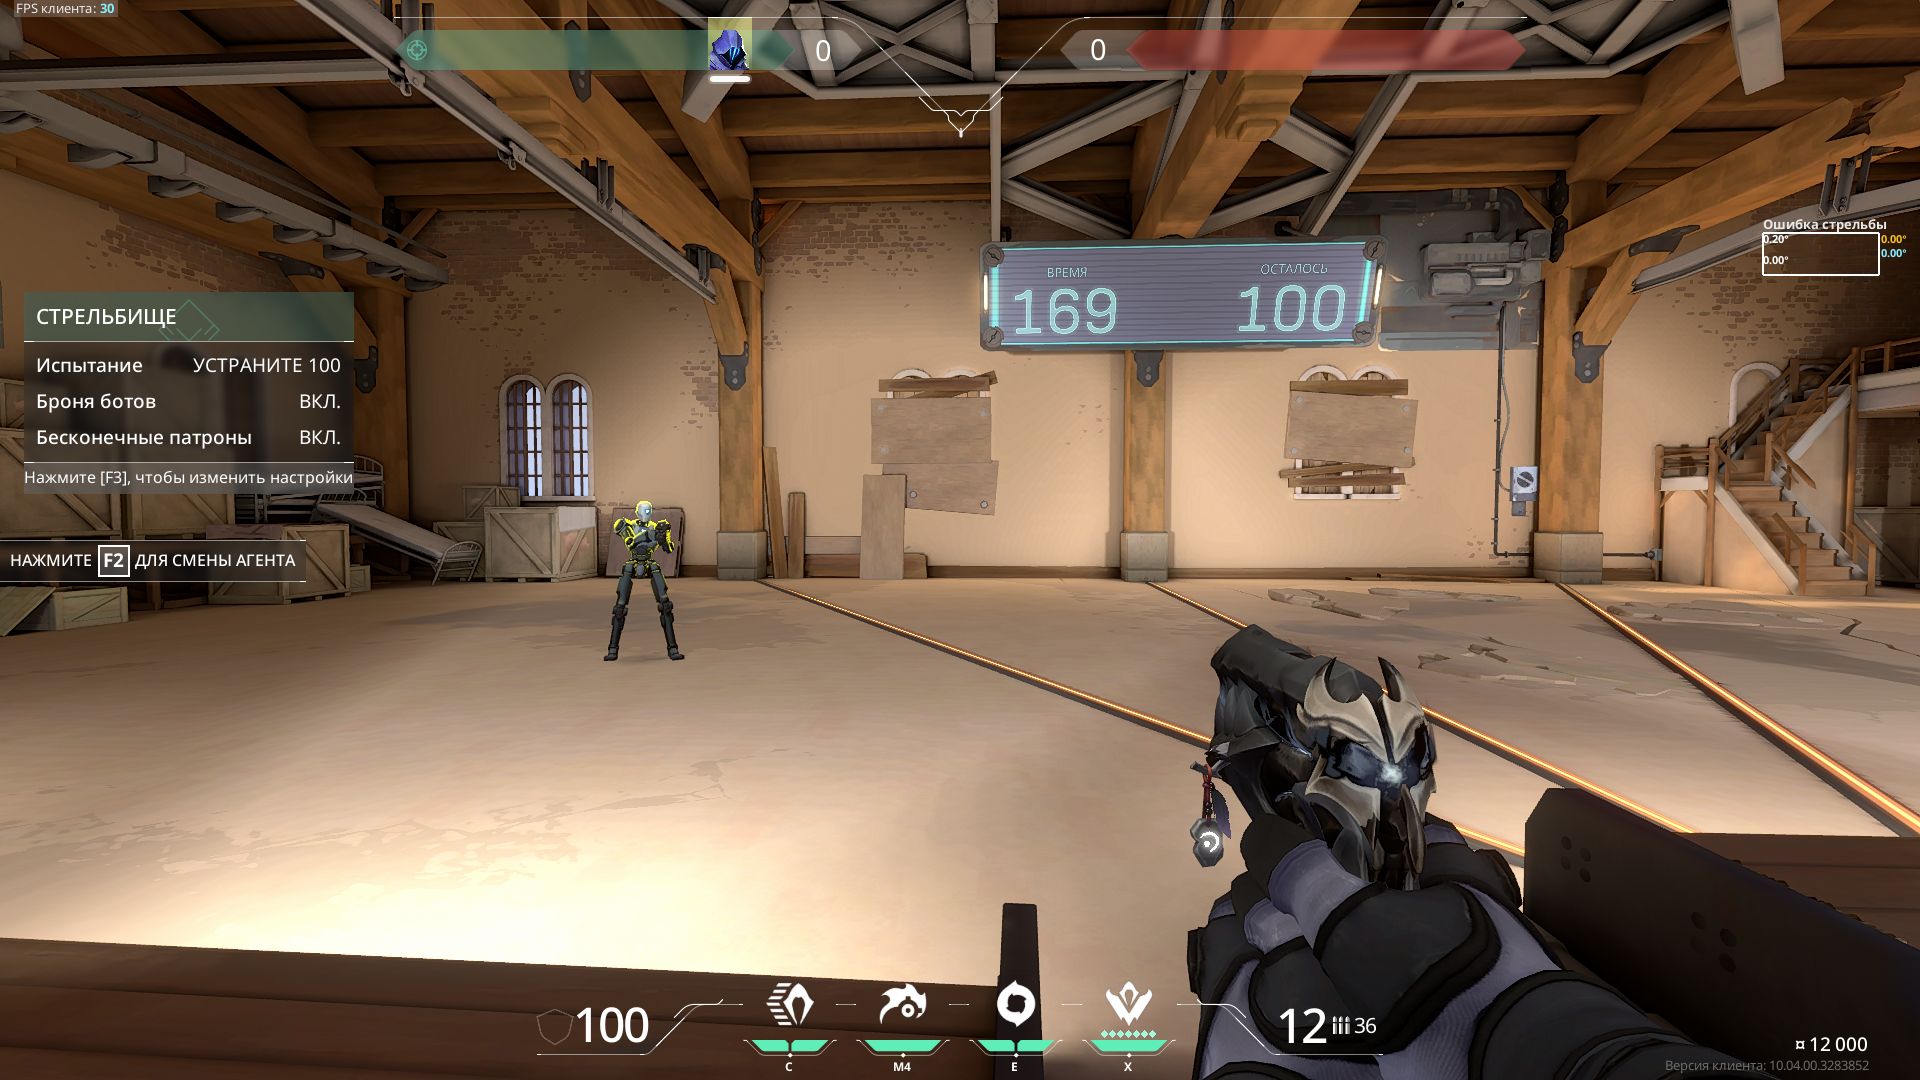head: (636, 501, 652, 522)
